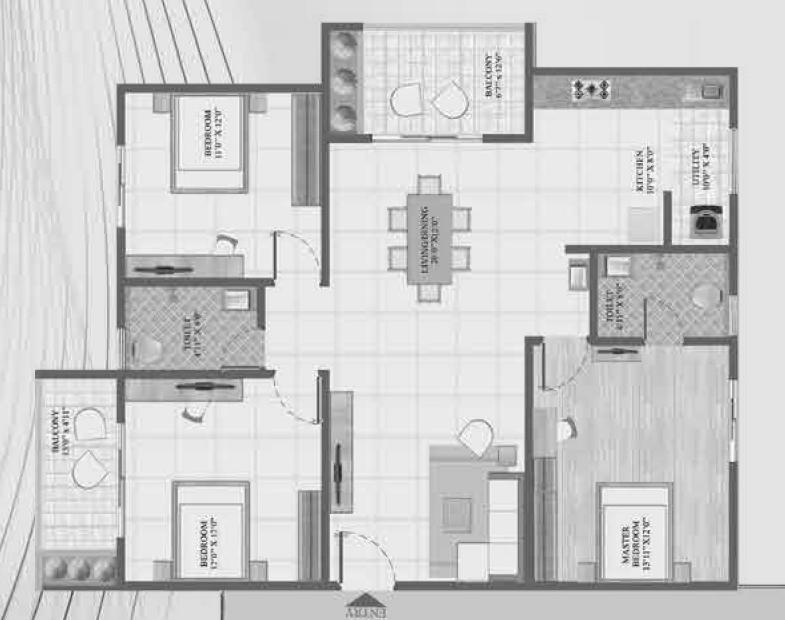Balcony: (327, 29, 527, 140), (37, 376, 123, 584)
Bed: (533, 344, 733, 585), (123, 377, 325, 584), (122, 87, 321, 281), (172, 96, 245, 191), (175, 485, 245, 578), (604, 487, 669, 579)
Dining Room: (328, 143, 589, 340)
Dining table: (389, 174, 475, 306)
Kitchen: (532, 78, 669, 242)
Living Room: (324, 345, 529, 578)
Sofa: (488, 475, 525, 576), (455, 541, 526, 578)
Wardrobe: (531, 457, 557, 584), (292, 91, 320, 208), (295, 490, 324, 579)
door: (341, 533, 397, 585), (270, 375, 324, 425), (541, 345, 589, 393), (218, 326, 268, 372), (275, 235, 320, 281), (111, 425, 129, 535), (643, 297, 684, 342), (371, 133, 487, 145)
fridge: (625, 206, 661, 242)
kitchen-slab: (535, 75, 728, 108)
sink: (682, 79, 727, 105), (566, 261, 587, 292), (222, 291, 249, 309)
stove: (569, 80, 613, 105)
toilet: (115, 285, 266, 375), (596, 254, 734, 338)
tv: (325, 428, 358, 512), (161, 377, 242, 405), (127, 260, 196, 277), (595, 344, 639, 363)
utility: (670, 77, 730, 248)
washing-machine: (688, 205, 724, 241)
